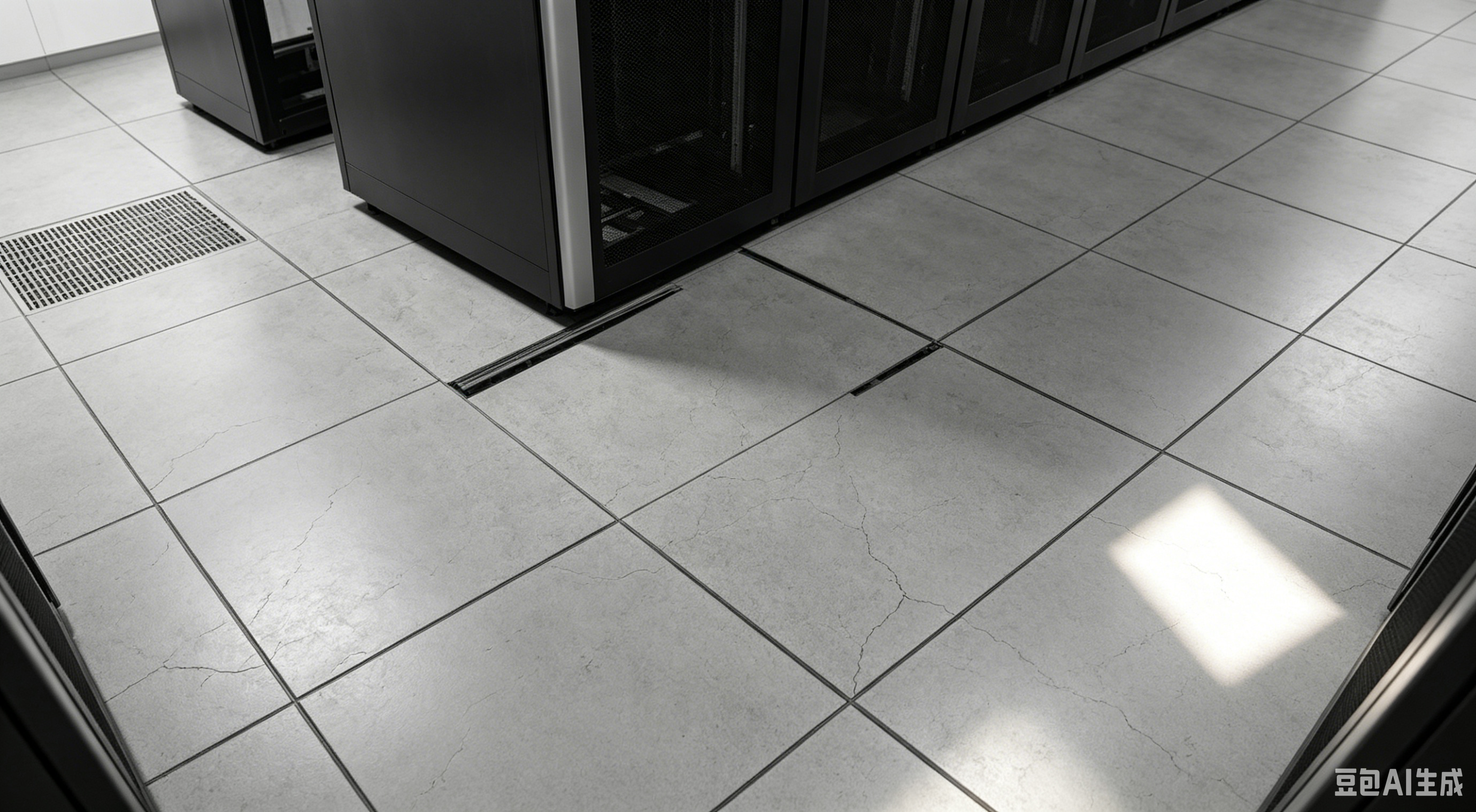floor_defect: (827, 281, 958, 405), (826, 434, 917, 600), (843, 602, 904, 716), (1151, 736, 1252, 800), (979, 630, 1079, 684), (1054, 687, 1146, 741), (140, 652, 274, 685), (728, 247, 815, 290), (918, 597, 1001, 633), (94, 681, 146, 703)
